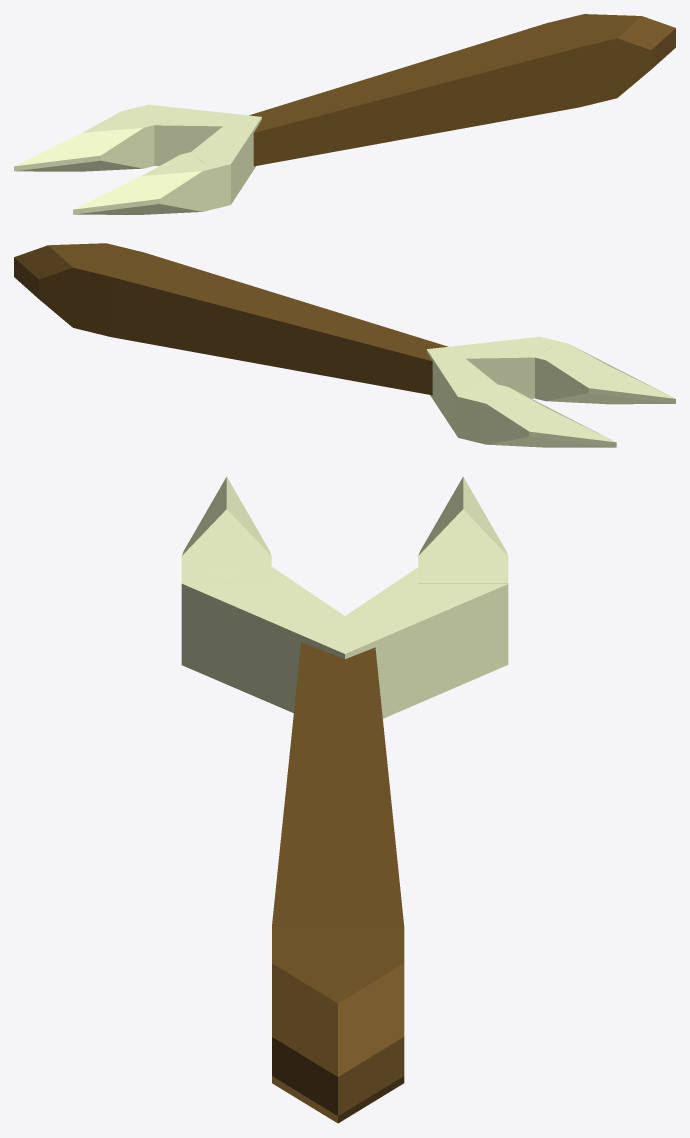
Rendered from WolfFangArrow.fbx.
3 renders of one model, top to bottom at view 1: azimuth 30°, elevation 25°; view 2: azimuth 150°, elevation 25°; view 3: azimuth 270°, elevation 25°, orthographic. The views are drawn at different scales.
Parts seen in each view (by area): view 1: WolfFang; view 2: WolfFang; view 3: WolfFang.
Part boxes in pixels (x1,y1,x2,y2): WolfFang: (14, 14, 675, 214); WolfFang: (14, 243, 675, 447); WolfFang: (181, 476, 508, 1123).
Bounding box in the file's own units: 244 × 22.13 × 54.59.
